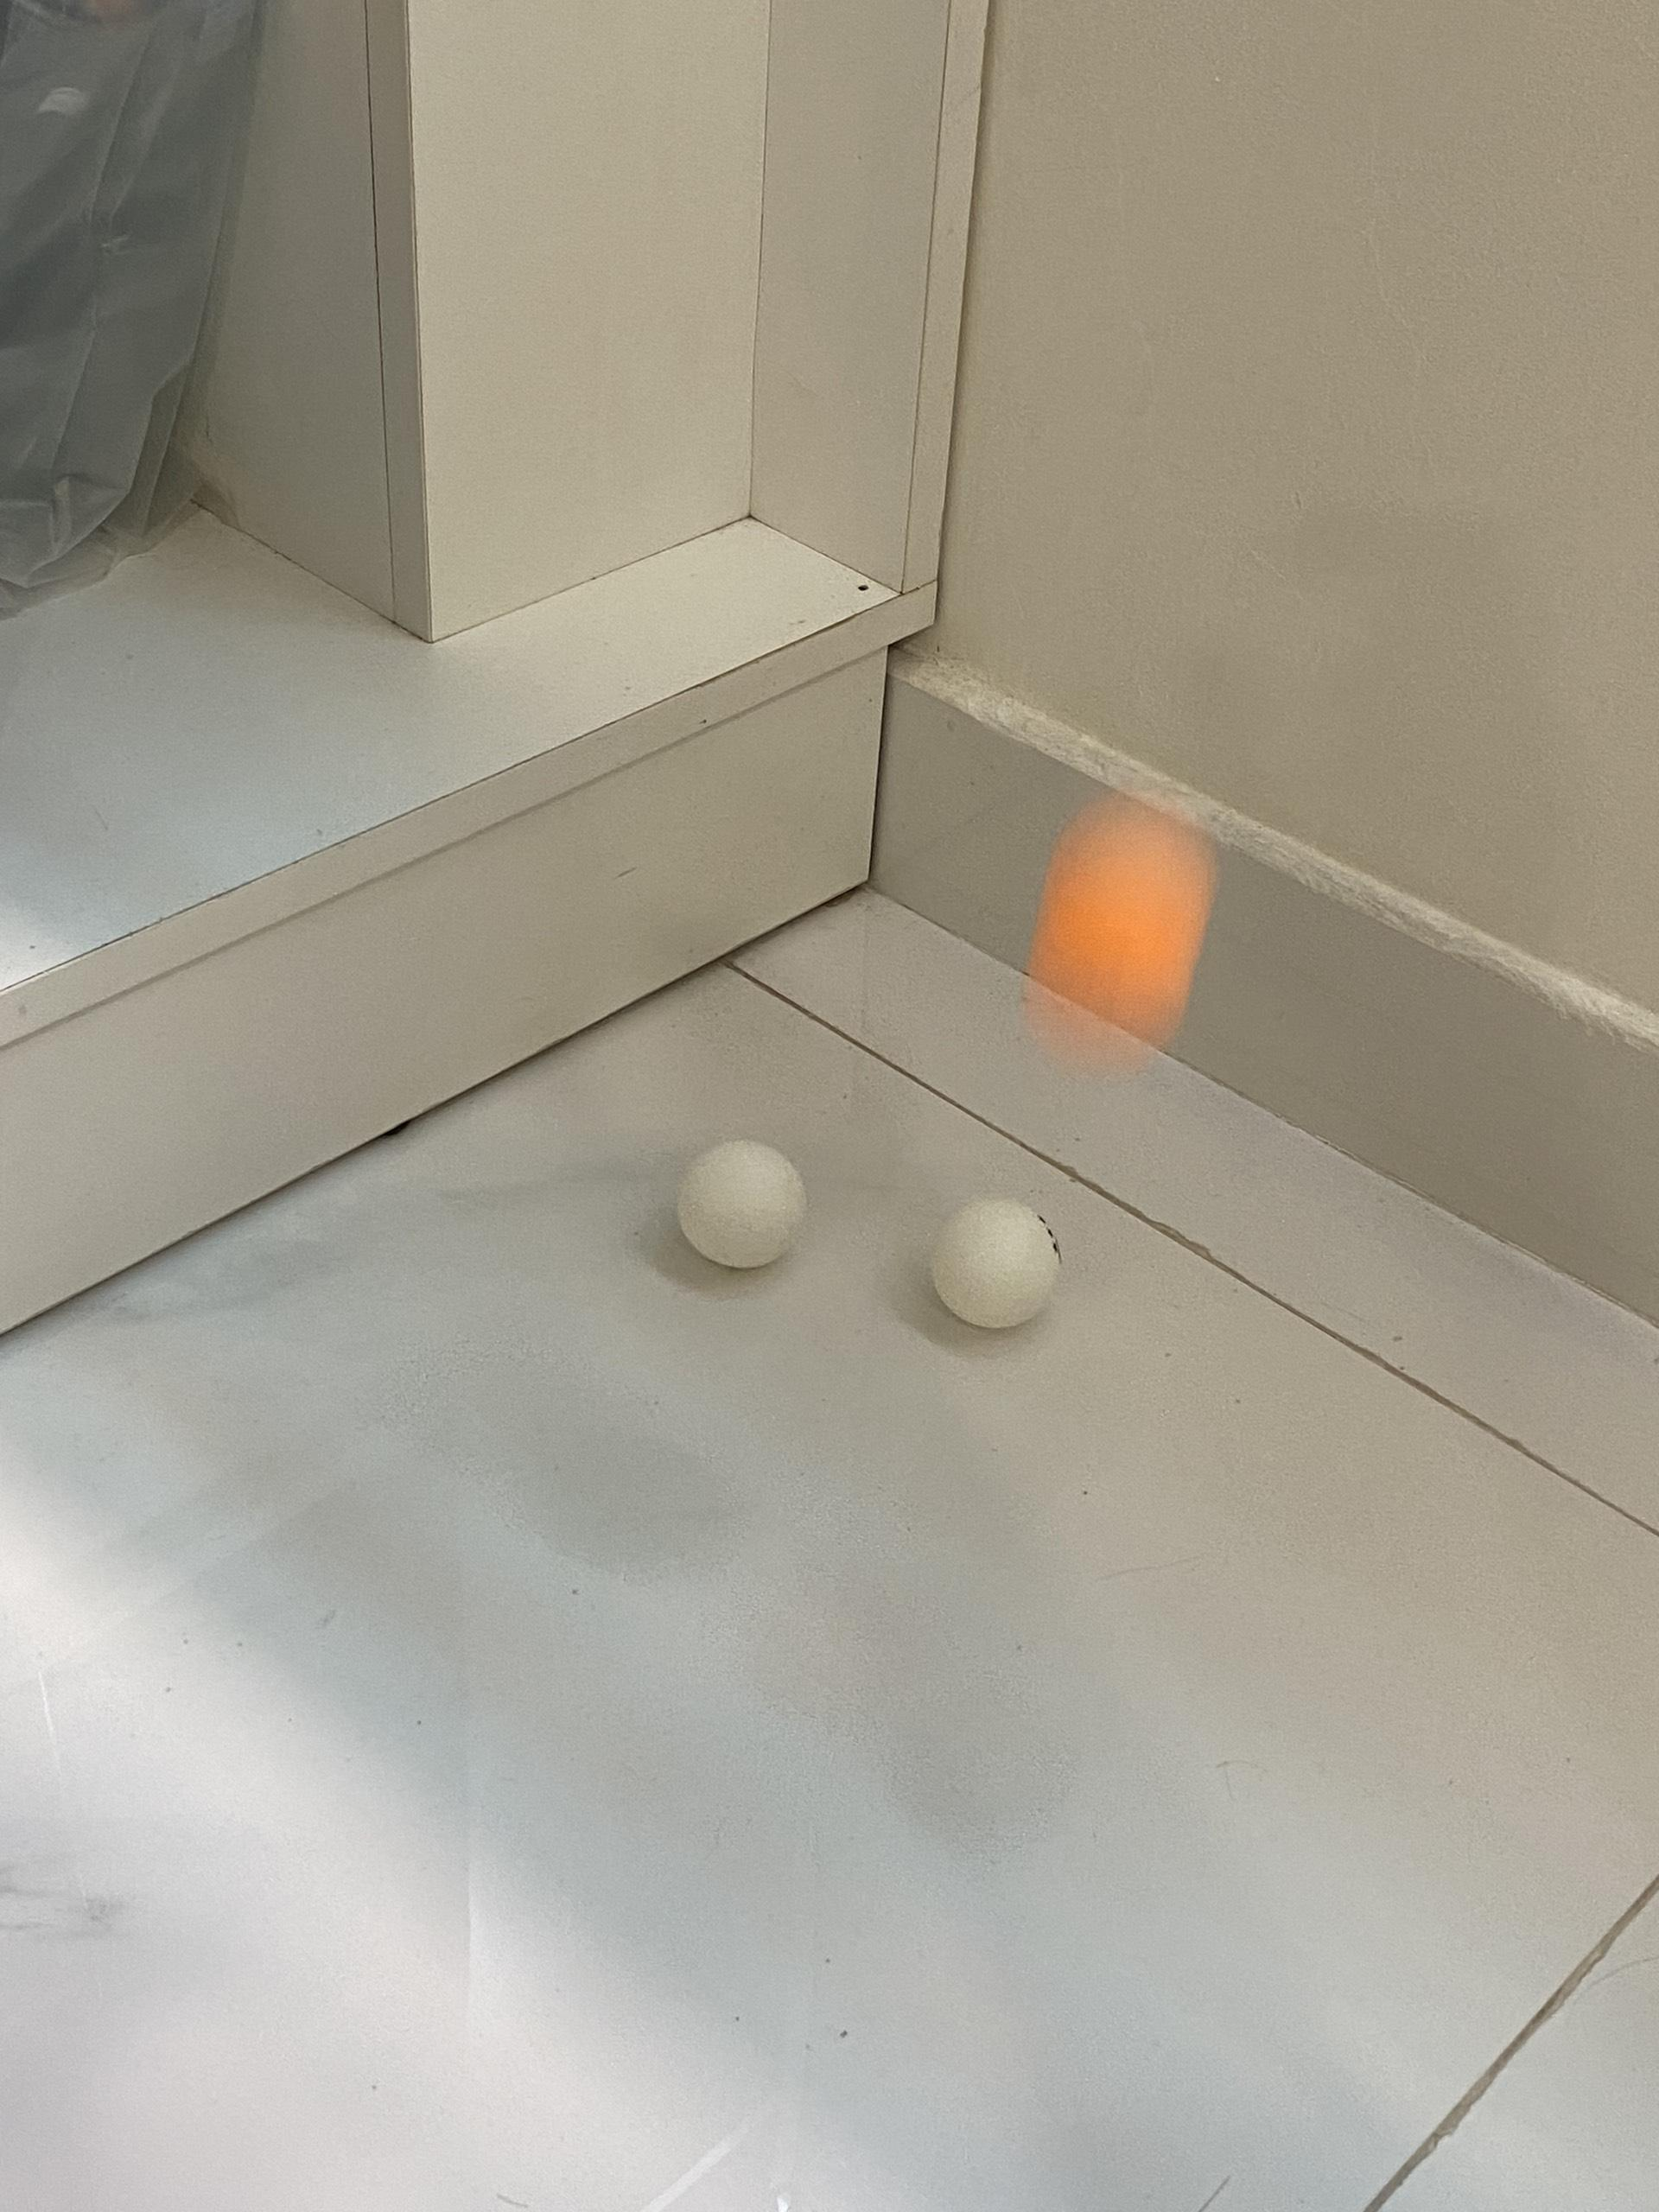oball: (1037, 824, 1192, 1052)
